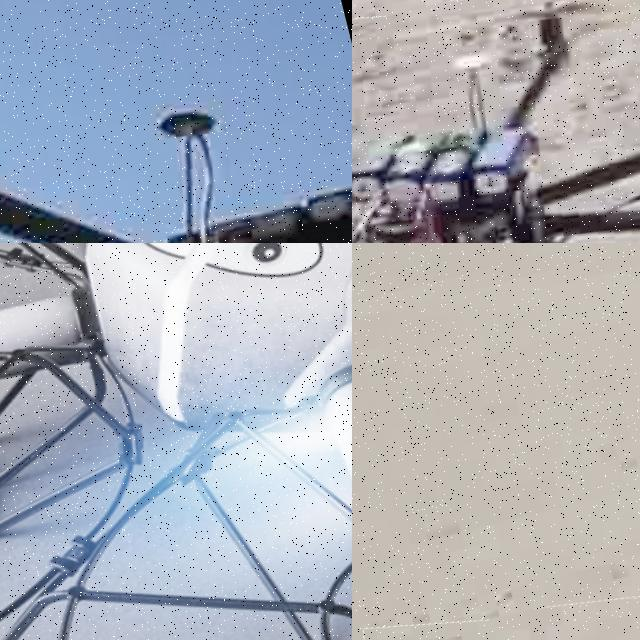0: (0, 0, 352, 243), (352, 0, 640, 243), (352, 528, 640, 640)
drone: (0, 243, 352, 640)
